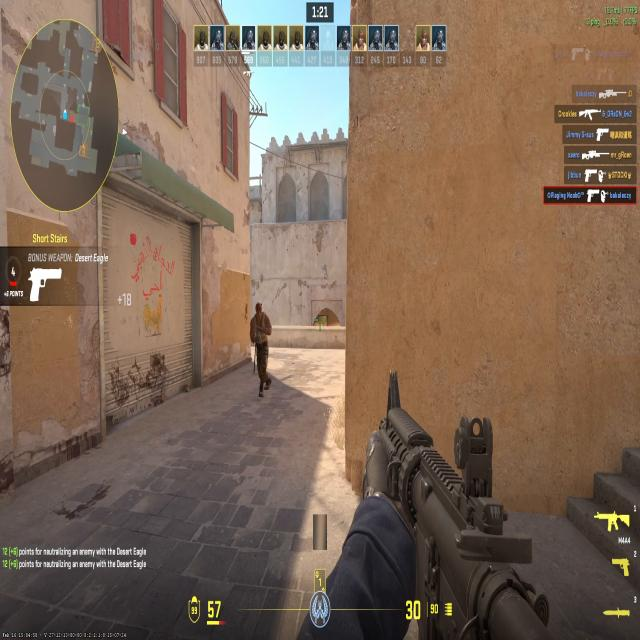player: (248, 298, 282, 402)
